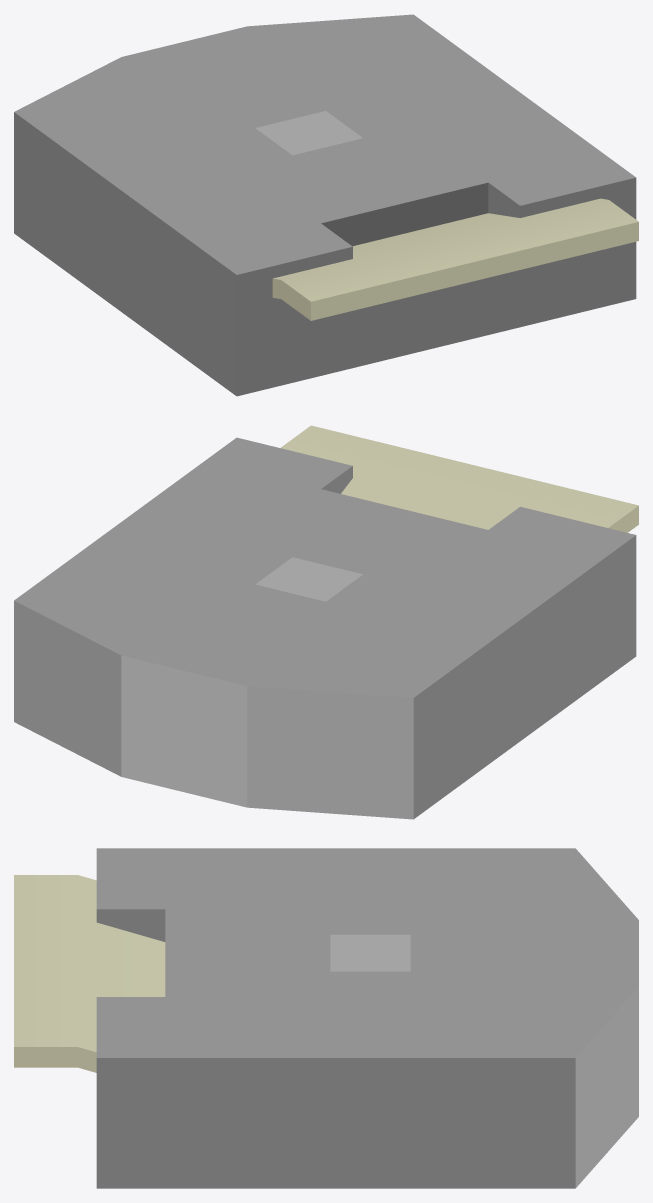
The model's file is PapertowelDispenser.glb.
3 renders of one model, top to bottom at view 1: azimuth 30°, elevation 25°; view 2: azimuth 150°, elevation 25°; view 3: azimuth 270°, elevation 25°, orthographic. The views are drawn at different scales.
Visible parts, largest first — view 1: SO_PaperTowelDispenser; view 2: SO_PaperTowelDispenser; view 3: SO_PaperTowelDispenser.
Part boxes in pixels (x1,y1,x2,y2): SO_PaperTowelDispenser: (14,14,638,396); SO_PaperTowelDispenser: (14,425,638,819); SO_PaperTowelDispenser: (14,848,638,1188).
Size of the model in its own units: 0.6513 by 0.1892 by 0.8207.
Materials: 1 (1 with a texture image).
